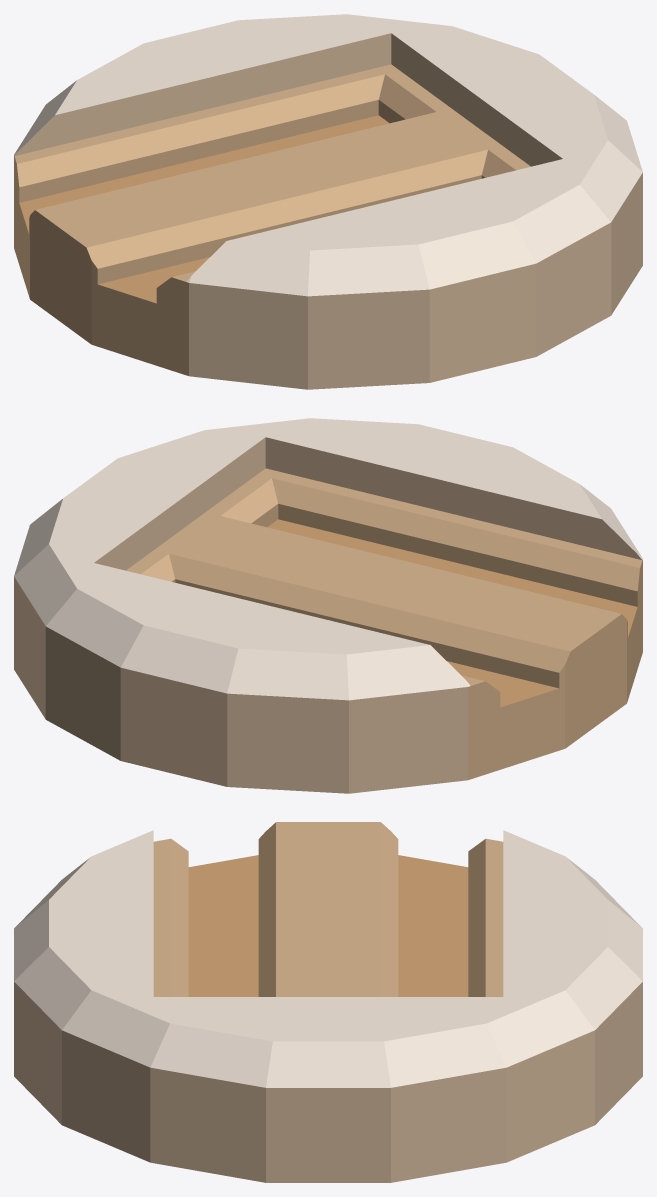
The model's file is Puzzle_Track_Rotating_Platform_End.fbx.
3 renders of one model, top to bottom at view 1: azimuth 30°, elevation 25°; view 2: azimuth 150°, elevation 25°; view 3: azimuth 270°, elevation 25°, orthographic.
Visible parts, largest first — view 1: Sandstone_4.Sandstone_4.Sandstone_4.Sandstone_4.object1, Sandstone_Floor.Sandstone_Floor.Sandstone_Floor, Sandstone_Trim.Sandstone_Trim.Sandstone_Trim.Sandstone_Trim., Sandstone_5.Sandstone_5; view 2: Sandstone_4.Sandstone_4.Sandstone_4.Sandstone_4.object1, Sandstone_Floor.Sandstone_Floor.Sandstone_Floor, Sandstone_Trim.Sandstone_Trim.Sandstone_Trim.Sandstone_Trim., Sandstone_5.Sandstone_5; view 3: Sandstone_Floor.Sandstone_Floor.Sandstone_Floor, Sandstone_Trim.Sandstone_Trim.Sandstone_Trim.Sandstone_Trim., Sandstone_4.Sandstone_4.Sandstone_4.Sandstone_4.object1, Sandstone_5.Sandstone_5.
Part boxes in pixels (x1,y1,x2,y2): Sandstone_4.Sandstone_4.Sandstone_4.Sandstone_4.object1: (14,64,530,375); Sandstone_Floor.Sandstone_Floor.Sandstone_Floor: (14,14,642,296); Sandstone_Trim.Sandstone_Trim.Sandstone_Trim.Sandstone_Trim.: (15,33,642,389); Sandstone_5.Sandstone_5: (19,115,389,303); Sandstone_4.Sandstone_4.Sandstone_4.Sandstone_4.object1: (126,468,642,779); Sandstone_Floor.Sandstone_Floor.Sandstone_Floor: (14,418,642,700); Sandstone_Trim.Sandstone_Trim.Sandstone_Trim.Sandstone_Trim.: (14,437,641,793); Sandstone_5.Sandstone_5: (267,519,637,707); Sandstone_Floor.Sandstone_Floor.Sandstone_Floor: (14,830,642,1087); Sandstone_Trim.Sandstone_Trim.Sandstone_Trim.Sandstone_Trim.: (14,982,642,1182); Sandstone_4.Sandstone_4.Sandstone_4.Sandstone_4.object1: (153,822,503,996); Sandstone_5.Sandstone_5: (188,855,468,996).
Size of the model in its own units: 0.9 by 0.2 by 0.9.
